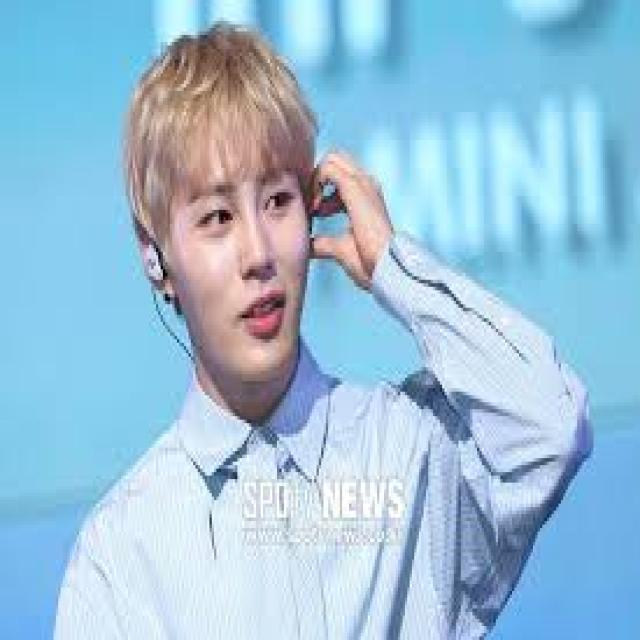earphone: (134, 234, 191, 298)
